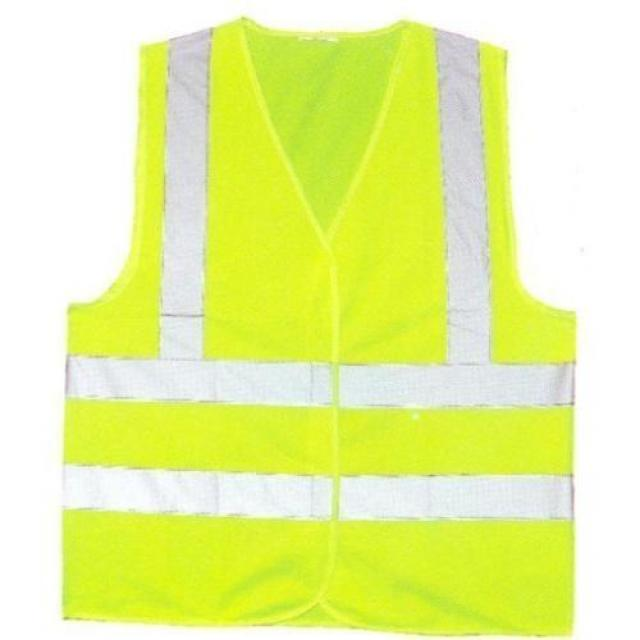Reflective-Jacket: (10, 11, 618, 640)
